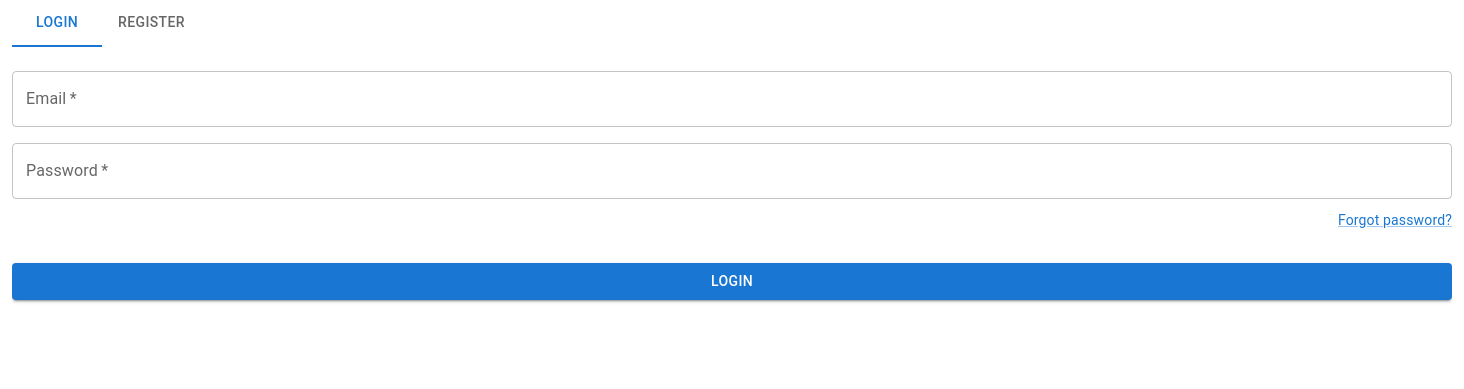
Test: LoginForm › should clear error when user starts typing in password field
The image size is (1464, 389).
Type "test@example.com" into the field labelled "Email *" at (732, 99), box top-left (12, 71), bottom-right (1452, 127)
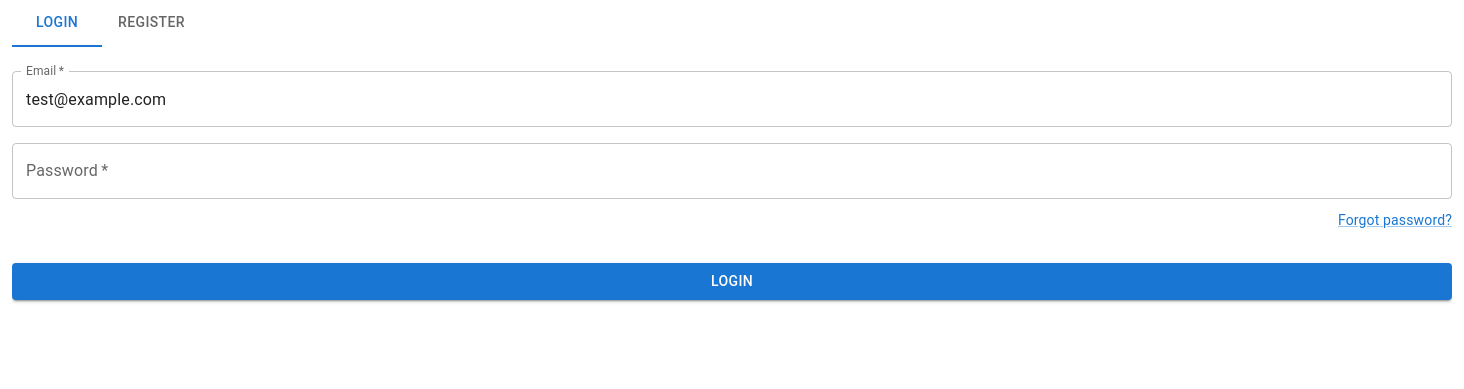
Type "wrongpassword" into the password field labelled "Password *" at (732, 171), box top-left (12, 143), bottom-right (1452, 199)
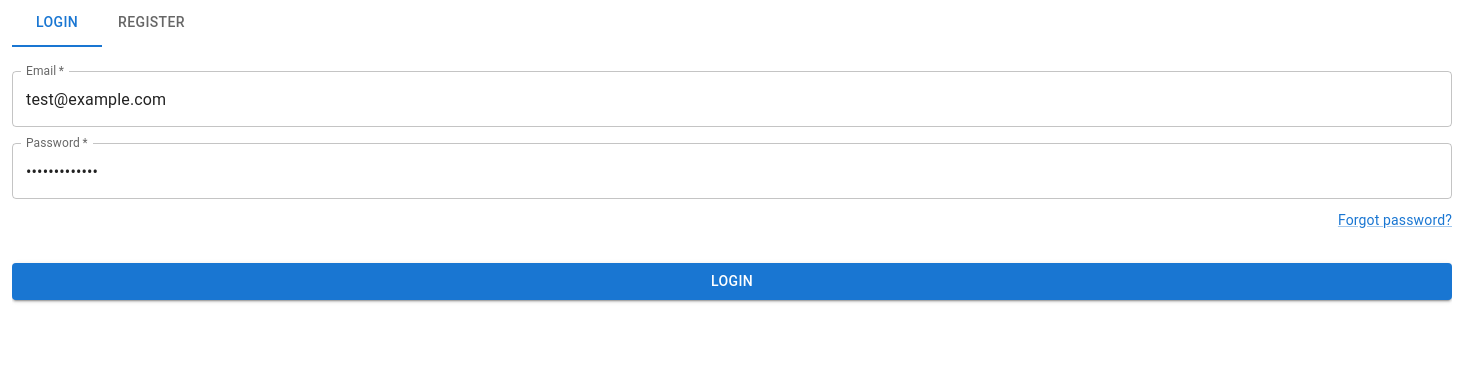
Click the button "Login" at (732, 281), box top-left (12, 263), bottom-right (1452, 300)
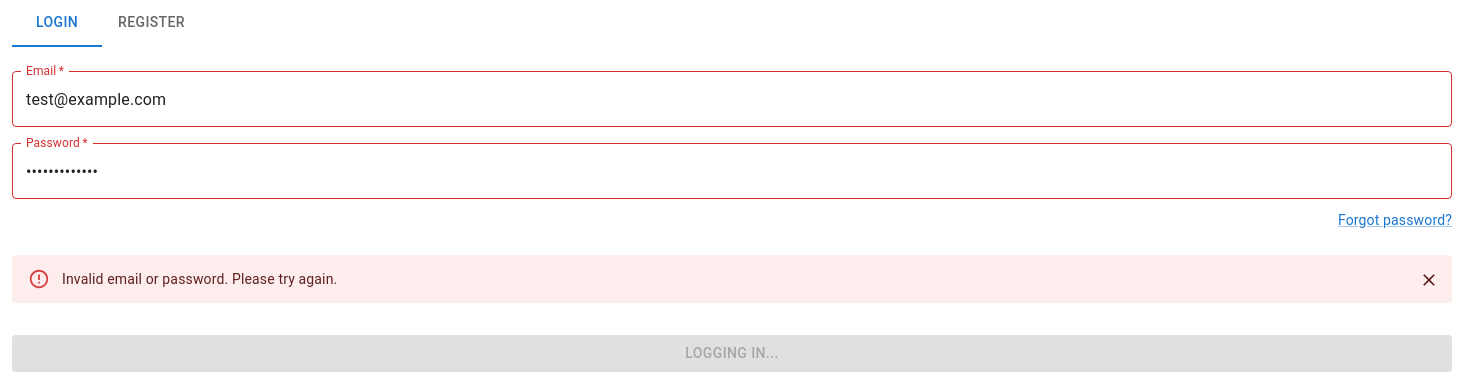
Expected: the message "Invalid email or password. Please try again." is shown, top-left (12, 255), bottom-right (1452, 303)
# Start typing in password field - should clear error
Type "newpassword" into the password field labelled "Password *" at (732, 171), box top-left (12, 143), bottom-right (1452, 199)
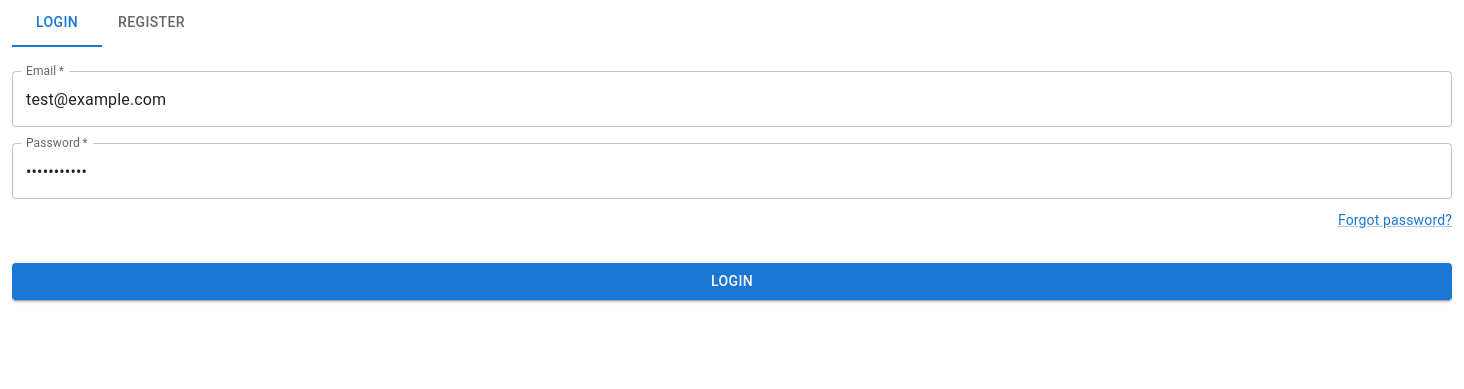
Expected: the message "Invalid email or password. Please try again." is gone
